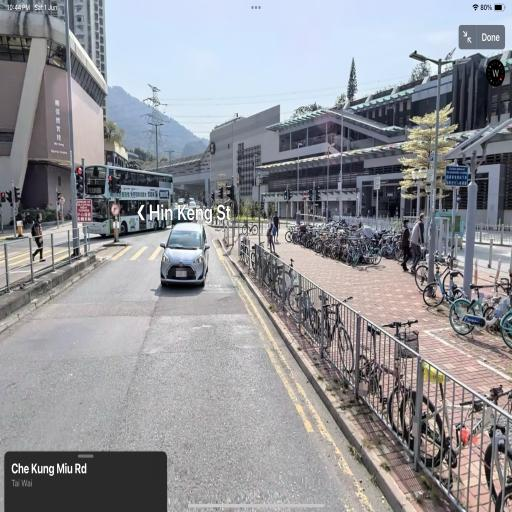Roads: (4, 191, 448, 497)
Trees: (404, 90, 469, 259)
